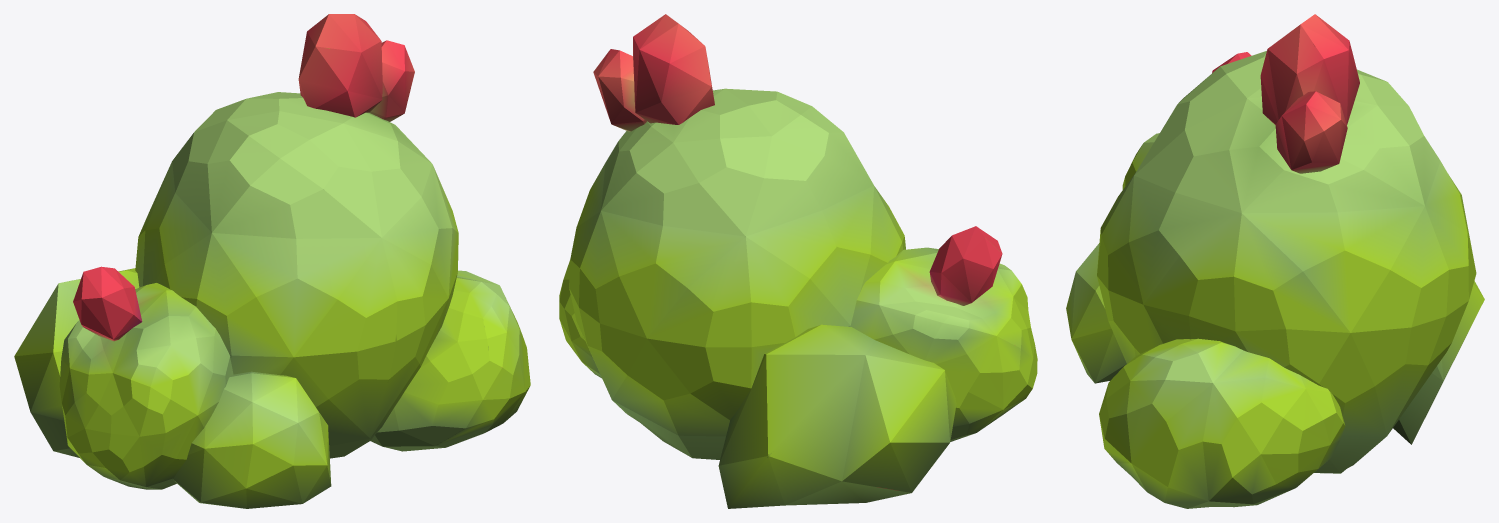
The model's file is bush orange flower.fbx.
3 renders of one model, left to right at view 1: azimuth 30°, elevation 25°; view 2: azimuth 150°, elevation 25°; view 3: azimuth 270°, elevation 25°, orthographic. The views are drawn at different scales.
Visible parts, largest first — view 1: Icosphere.012; view 2: Icosphere.012; view 3: Icosphere.012.
Boxes of the visible parts, x1,y1,x2,y2 form: Icosphere.012: (14, 14, 530, 508); Icosphere.012: (559, 14, 1037, 508); Icosphere.012: (1066, 14, 1484, 508).
Size of the model in its own units: 833 by 753 by 593.
